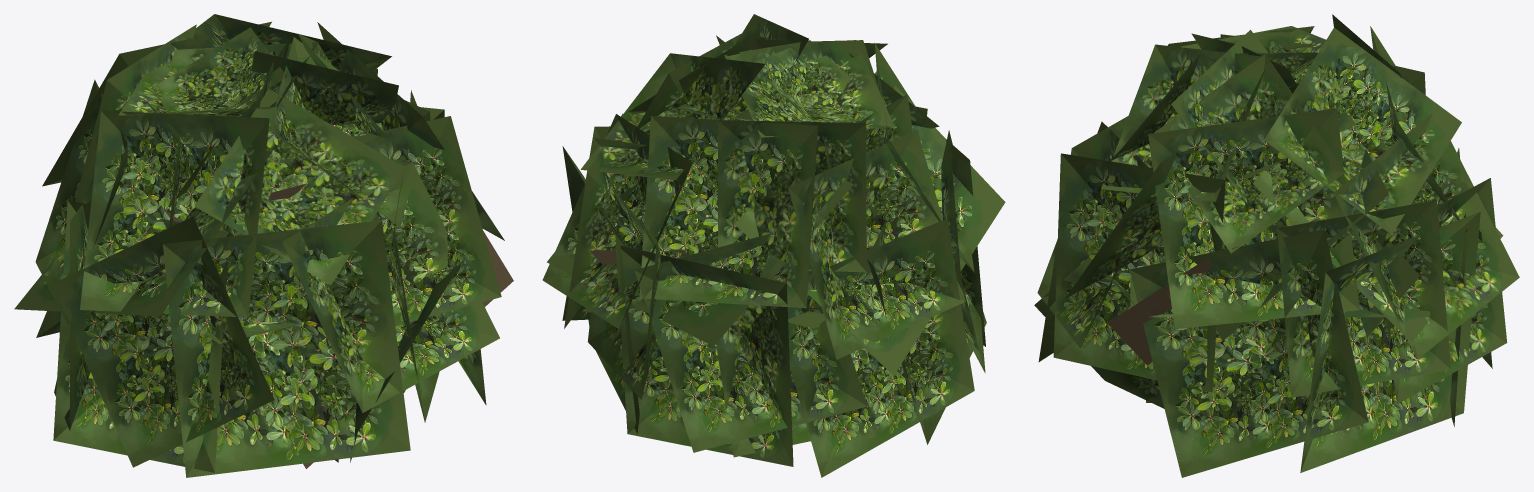
The model's file is Cleyera_m.FBX.
The picture shows the model from 3 angles, left to right: view 1: azimuth 30°, elevation 25°; view 2: azimuth 150°, elevation 25°; view 3: azimuth 270°, elevation 25°; orthographic projection. The views are drawn at different scales.
Visible parts, largest first — view 1: Cleyera; view 2: Cleyera; view 3: Cleyera.
Part boxes in pixels (x1=…): Cleyera: x1=14, y1=14, x2=513, y2=477; Cleyera: x1=542, y1=14, x2=1005, y2=477; Cleyera: x1=1034, y1=14, x2=1519, y2=477.
Size of the model in its own units: 90.89 by 87.55 by 97.26.
